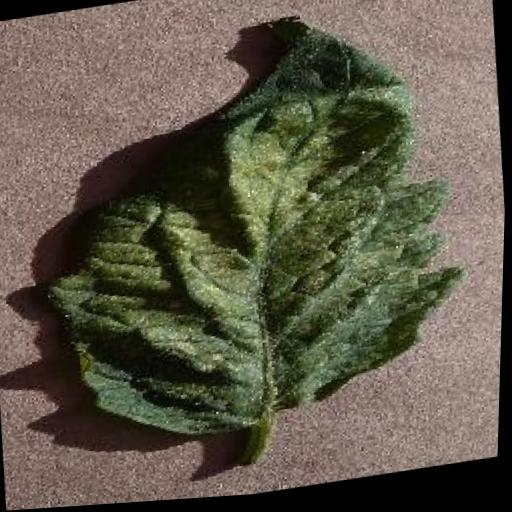Spider Mites: (22, 0, 479, 458)
